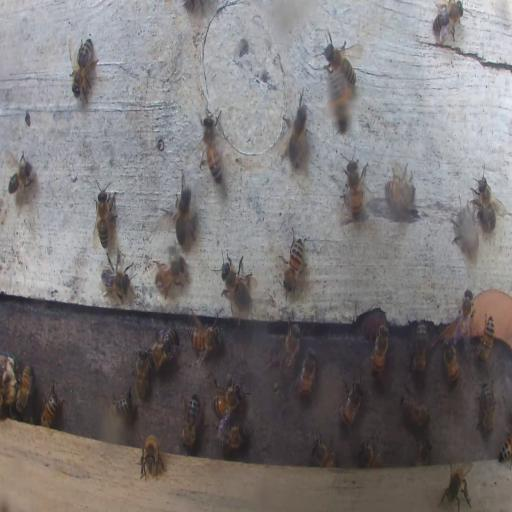nonpollenbee: (218, 249, 252, 310), (320, 30, 357, 84), (470, 166, 500, 232), (99, 253, 135, 305), (70, 35, 97, 102), (440, 460, 474, 512), (94, 181, 118, 249), (344, 152, 367, 219), (286, 96, 308, 166), (281, 231, 305, 295), (336, 376, 364, 429), (200, 117, 222, 184), (187, 314, 220, 358), (173, 182, 196, 245), (385, 166, 415, 214), (432, 2, 464, 43), (455, 208, 482, 256), (155, 256, 187, 296), (148, 325, 177, 369), (400, 387, 430, 429), (7, 154, 33, 202), (215, 420, 247, 456), (212, 382, 244, 417), (180, 394, 200, 450), (139, 435, 164, 478), (477, 382, 496, 436), (278, 326, 300, 372), (297, 348, 316, 398), (40, 382, 60, 429), (371, 324, 389, 376), (134, 347, 151, 402), (310, 432, 336, 466), (15, 364, 32, 415), (476, 316, 494, 363), (442, 339, 460, 385), (110, 381, 132, 417), (457, 290, 473, 339), (414, 320, 427, 374), (2, 357, 14, 414), (498, 422, 512, 467), (358, 443, 383, 467), (416, 438, 432, 463)
pollenbee: (328, 74, 354, 140)
